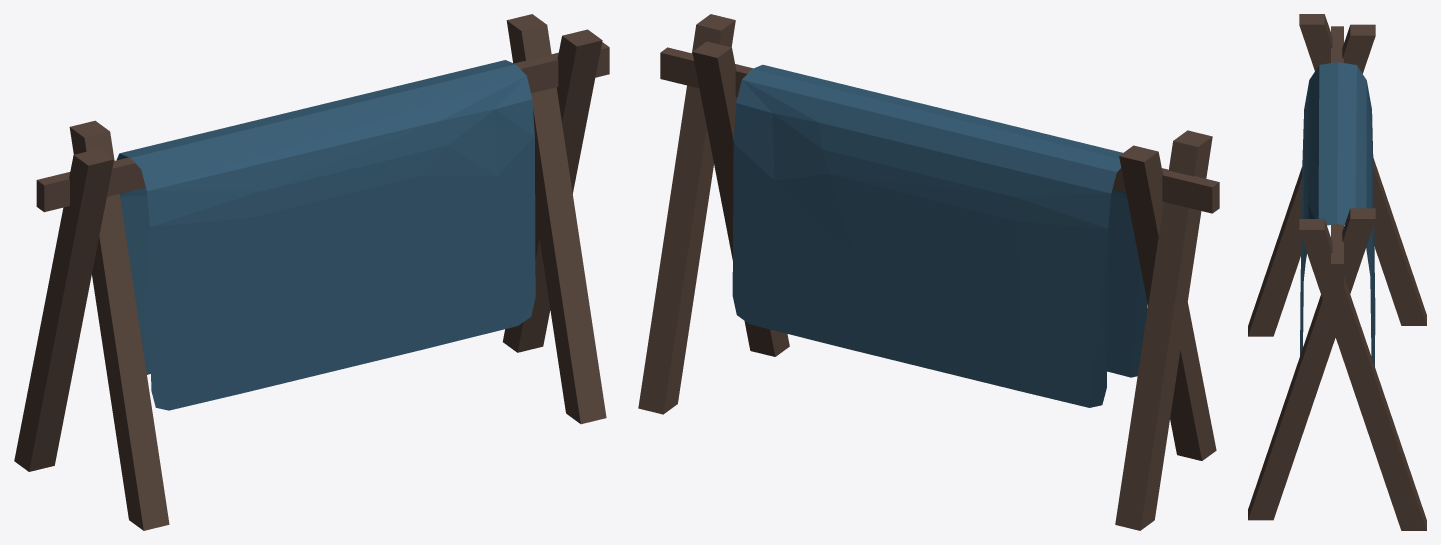
Rendered from fantasy_rack_1.fbx.
The picture shows the model from 3 angles, left to right: view 1: azimuth 30°, elevation 25°; view 2: azimuth 150°, elevation 25°; view 3: azimuth 270°, elevation 25°; orthographic projection. The views are drawn at different scales.
Parts seen in each view (by area): view 1: Plane.007, Cube.237; view 2: Plane.007, Cube.237; view 3: Cube.237, Plane.007.
Part boxes in pixels (x1=…): Plane.007: x1=116, y1=60, x2=535, y2=410; Cube.237: x1=14, y1=14, x2=609, y2=530; Plane.007: x1=732, y1=64, x2=1147, y2=407; Cube.237: x1=638, y1=14, x2=1219, y2=530; Cube.237: x1=1248, y1=14, x2=1426, y2=530; Plane.007: x1=1300, y1=62, x2=1375, y2=366.
Bounding box in the file's own units: 220 × 130 × 70.
